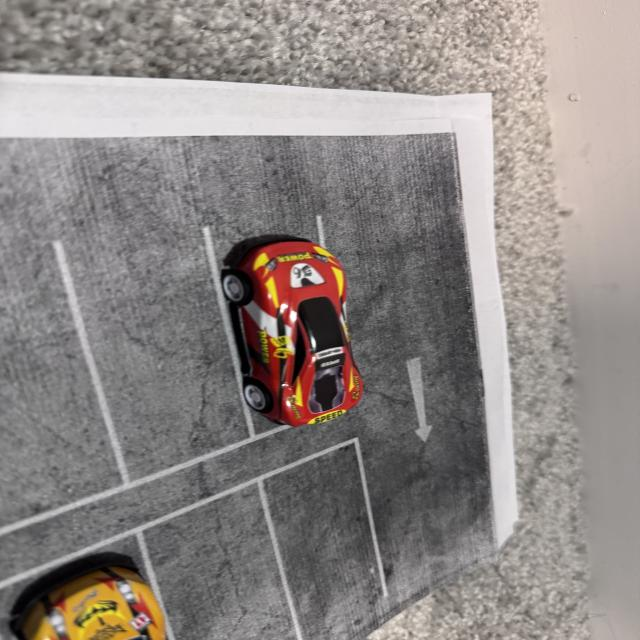Car: (204, 215, 354, 404), (0, 555, 207, 640)
